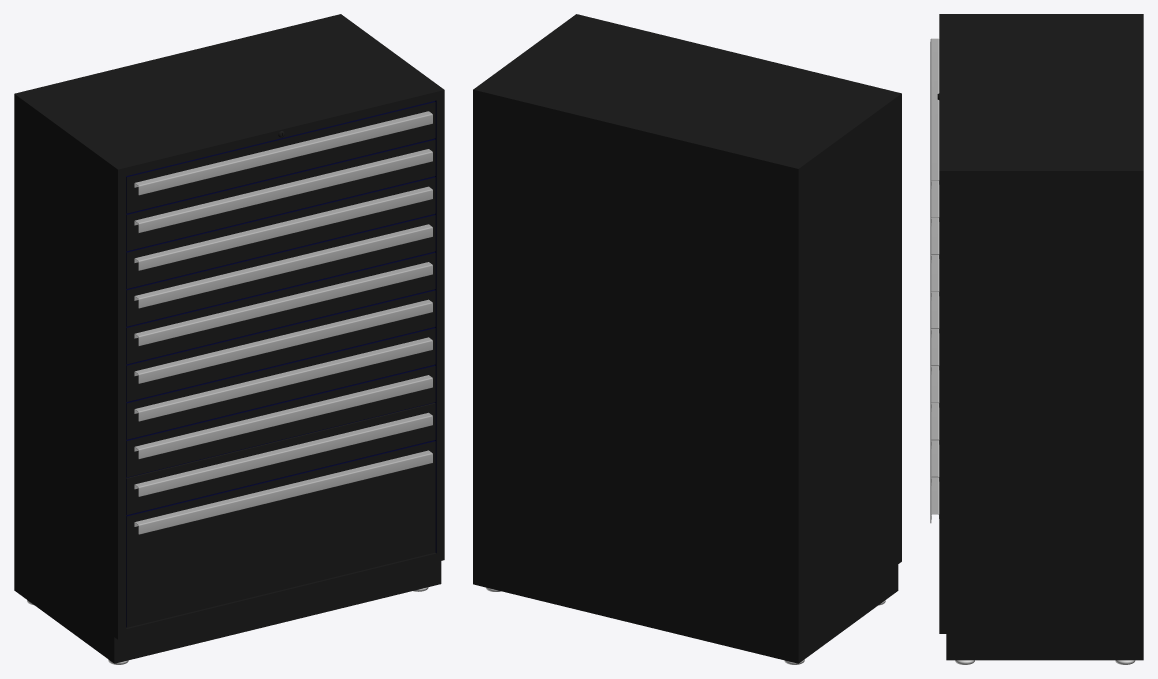
The model's file is drawer10Base40.glb.
The picture shows the model from 3 angles, left to right: view 1: azimuth 30°, elevation 25°; view 2: azimuth 150°, elevation 25°; view 3: azimuth 270°, elevation 25°; orthographic projection.
Visible parts, largest first — view 1: shellFp, drawers, handlesFp; view 2: shellFp; view 3: shellFp, handlesFp.
Part boxes in pixels (x1=…): shellFp: x1=14, y1=14, x2=444, y2=663; drawers: x1=126, y1=101, x2=435, y2=627; handlesFp: x1=134, y1=111, x2=432, y2=534; shellFp: x1=473, y1=14, x2=901, y2=663; shellFp: x1=939, y1=14, x2=1143, y2=660; handlesFp: x1=930, y1=38, x2=939, y2=523.
Bounding box in the file's own units: 1.02 × 1.5 × 0.5842.
4 materials, 1 textured.
